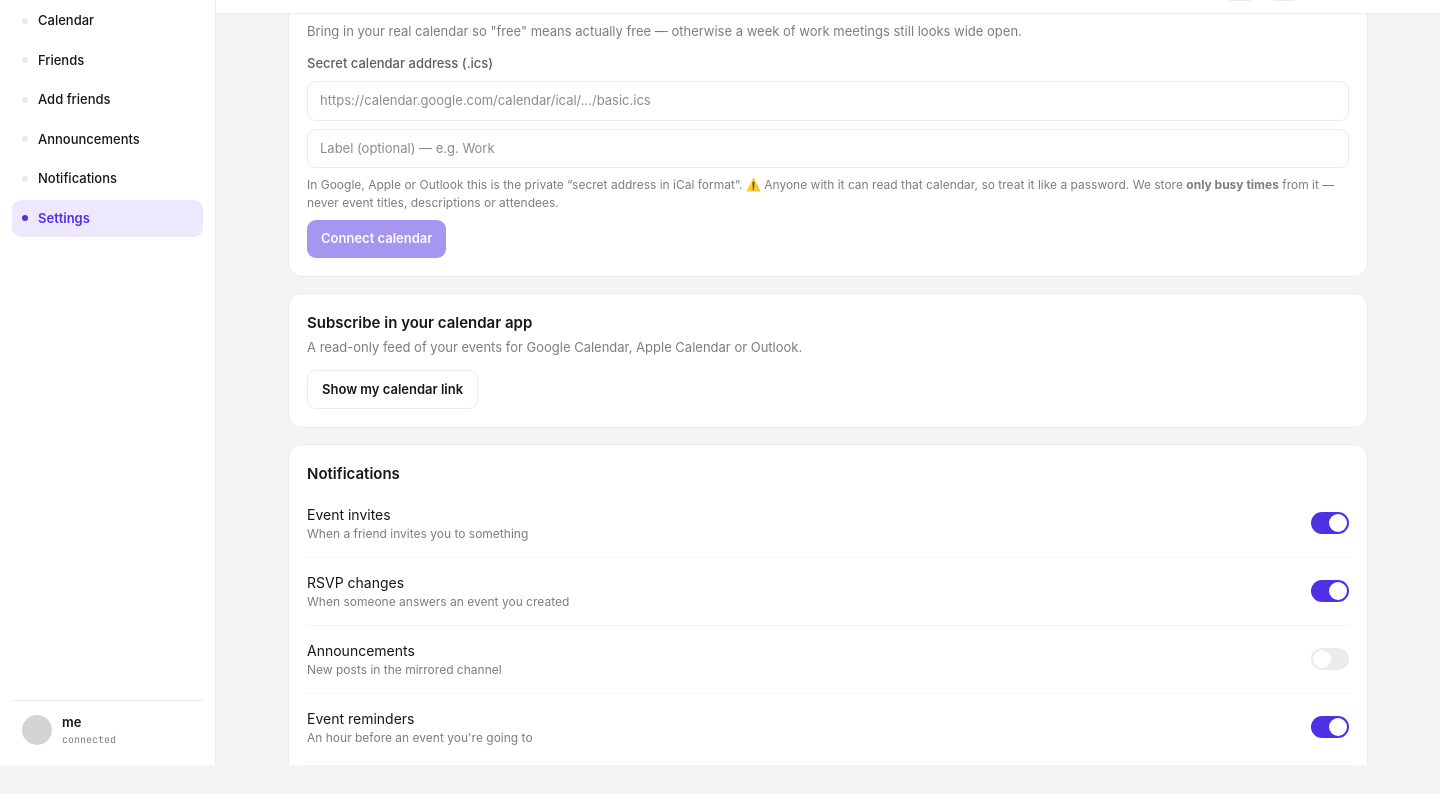
Test: settings page › the calendar subscription link › shows the link and says the URL is the credential
(page scrolled)
Click the button "Show my calendar link". click: (393, 389)
box: top-left (307, 370), bottom-right (478, 409)
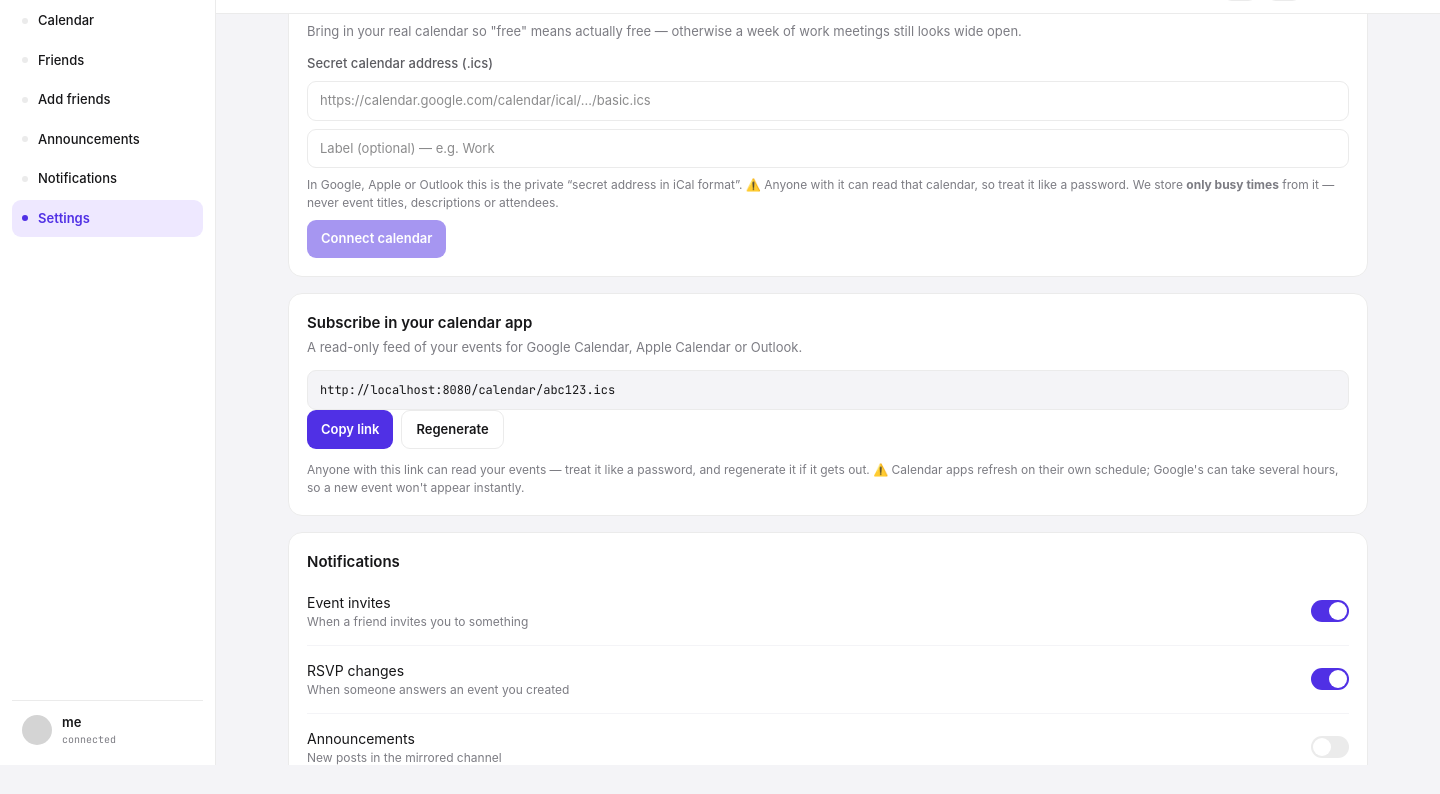
Expected: the text "treat it like a password" is shown, top-left (307, 177), bottom-right (1186, 192)
Expected: the text "http://localhost:8080/calendar/abc123.ics" is shown, top-left (307, 370), bottom-right (1349, 410)
